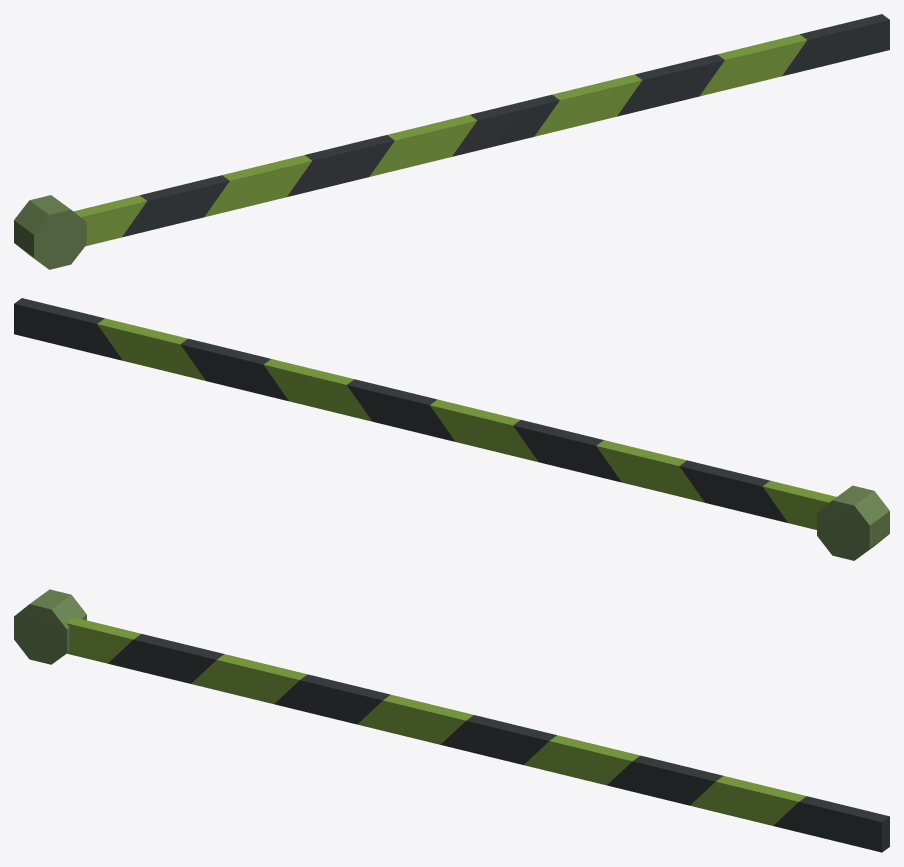
File: Parking_03_2.fbx
The picture shows the model from 3 angles, top to bottom: view 1: azimuth 30°, elevation 25°; view 2: azimuth 150°, elevation 25°; view 3: azimuth 330°, elevation 25°; orthographic projection.
Visible parts, largest first — view 1: Parking_03_2; view 2: Parking_03_2; view 3: Parking_03_2.
Part boxes in pixels (left/top/right/bottom): Parking_03_2: left=14, top=14, right=889, bottom=269; Parking_03_2: left=14, top=298, right=889, bottom=560; Parking_03_2: left=14, top=589, right=889, bottom=852.
Bounding box in the file's own units: 3.46 × 0.2117 × 0.1399.
